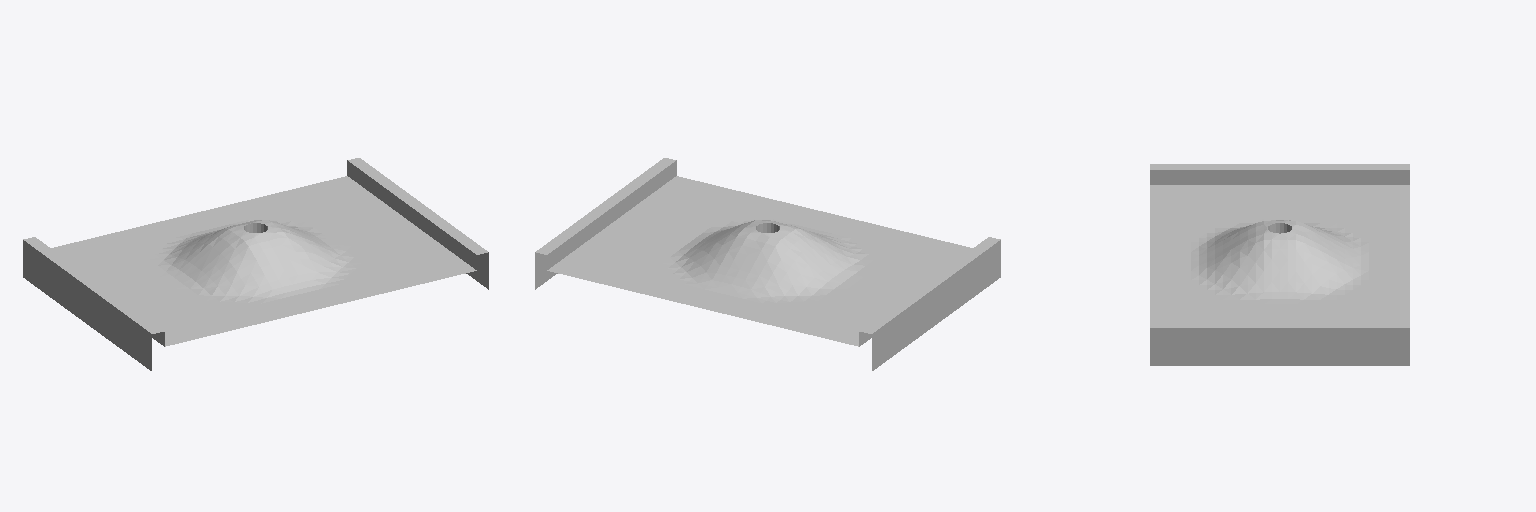
File: humpEnd_B_2x3.obj
3 views of the same model, side by side, from view 1: azimuth 30°, elevation 25°; view 2: azimuth 150°, elevation 25°; view 3: azimuth 270°, elevation 25° (orthographic).
Visible parts, largest first — view 1: humpEnd_B_2x3; view 2: humpEnd_B_2x3; view 3: humpEnd_B_2x3.
Boxes of the visible parts, x1,y1,x2,y2 form: humpEnd_B_2x3: [23, 158, 488, 370]; humpEnd_B_2x3: [535, 158, 1000, 370]; humpEnd_B_2x3: [1150, 164, 1409, 365].
Bounding box in the file's own units: 3 × 0.4721 × 2.